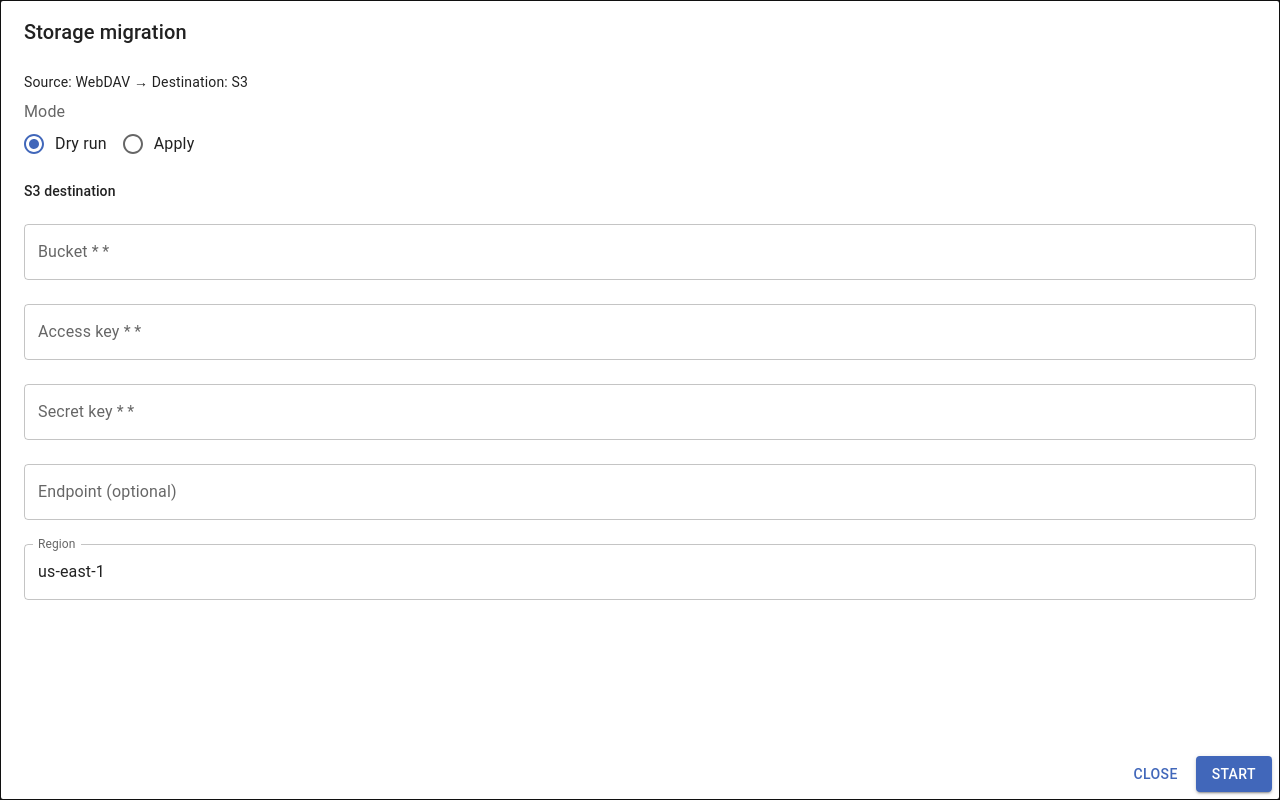
Scenario: MigrationDialog › blocks start when required fields are missing
This screenshot has width=1280, height=800.
Expected: the text "Source: WebDAV → Destination: S3" is shown, [24,74,248,90]
Click the button "Start" at (1234, 774), box [1196,756,1272,792]
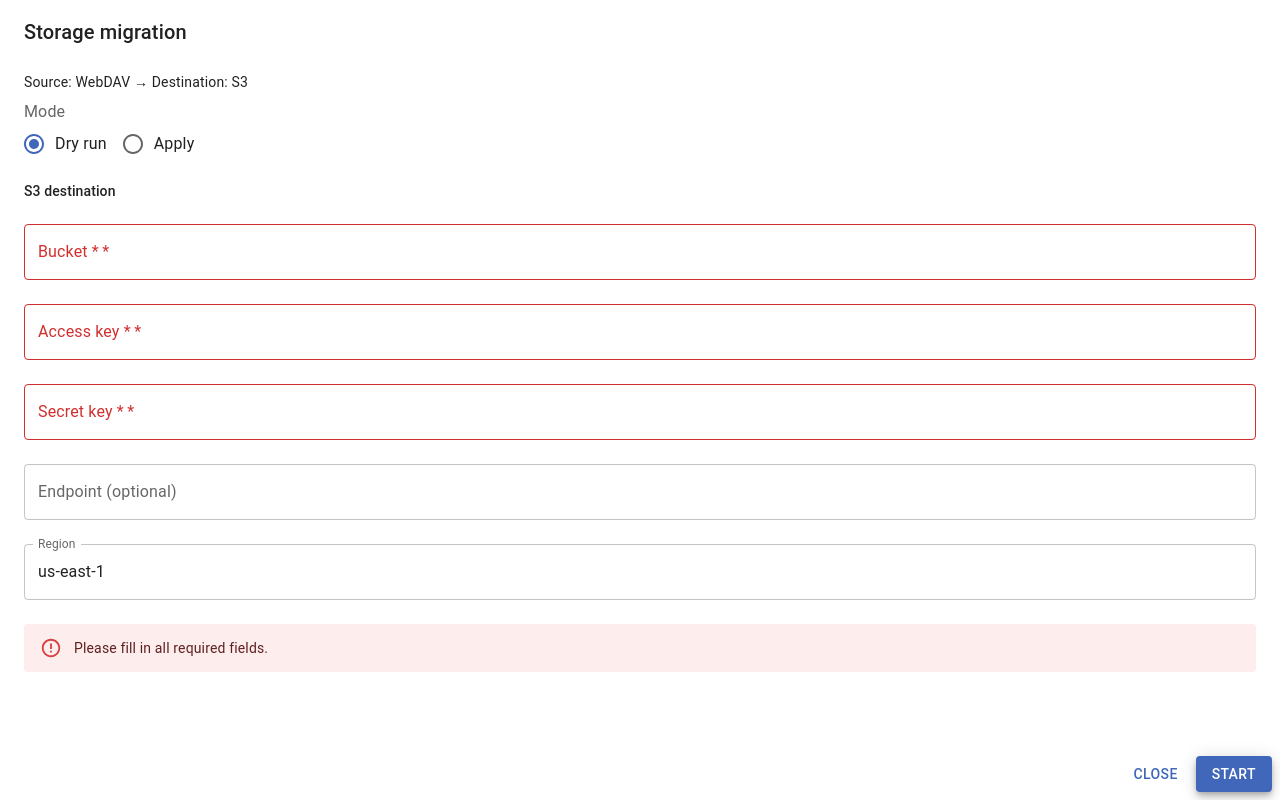
Result: the text "Please fill in all required fields." is shown at [74,640,268,656]
